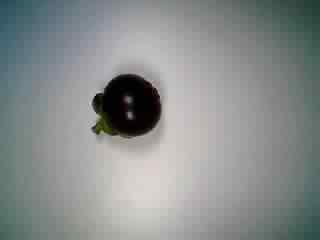mangosteen: (87, 69, 166, 144)
